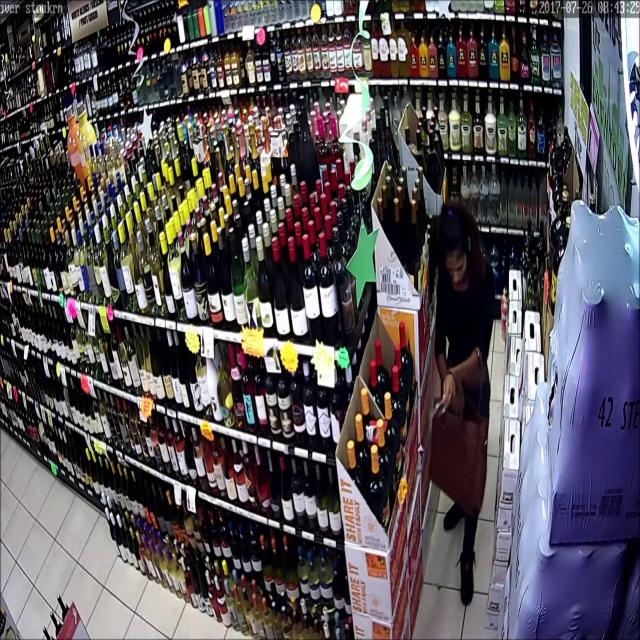shoplifting: (403, 195, 524, 610)
